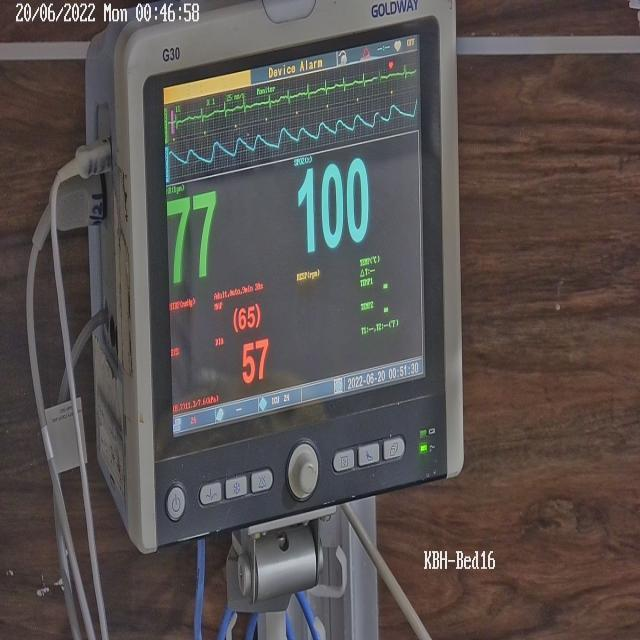Monitor: (86, 0, 464, 553)
